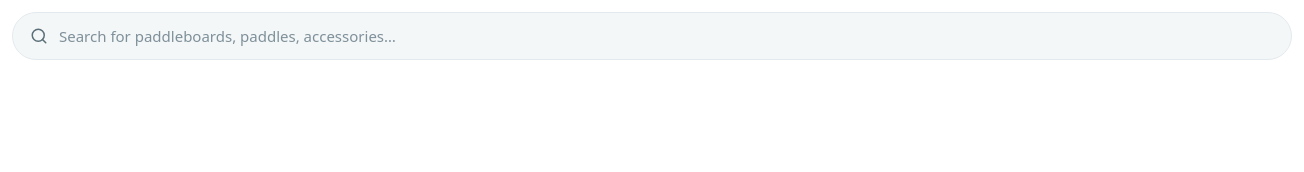
Test case: SearchBox › opens the results page on Enter
This screenshot has width=1304, height=172.
Type "red paddle" into the dropdown named "Search the shop".
click(652, 36); type("red paddle")  # box [12, 12, 1292, 60]
Then press Enter
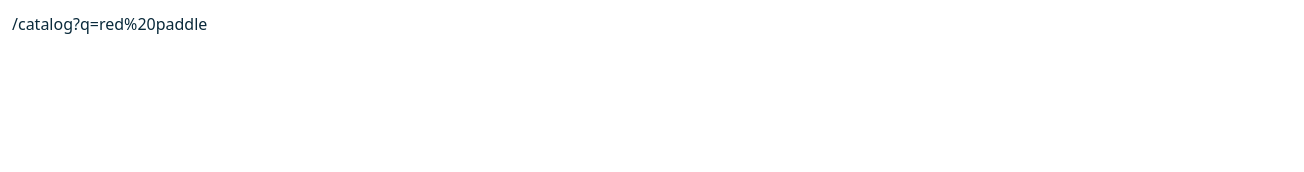
Expected: the text with test id "url" reads "/catalog?q=red%20paddle", [12, 13, 207, 35]
